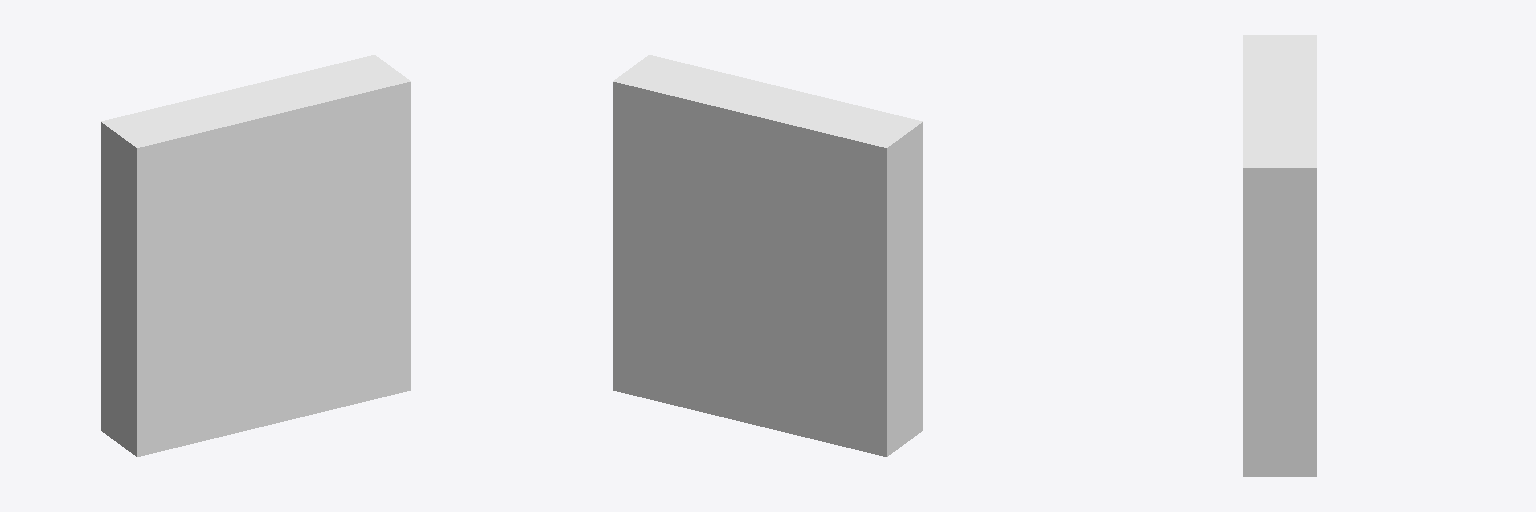
Rendered from mesh_security_power_panel.obj.
3 views of the same model, side by side, from view 1: azimuth 30°, elevation 25°; view 2: azimuth 150°, elevation 25°; view 3: azimuth 270°, elevation 25° (orthographic).
Visible parts, largest first — view 1: object 1; view 2: object 1; view 3: object 1.
Boxes of the visible parts, x1=… form: object 1: x1=101, y1=55, x2=410, y2=456; object 1: x1=613, y1=55, x2=922, y2=456; object 1: x1=1243, y1=35, x2=1316, y2=476.
Bounding box in the file's own units: 1.3 × 1.4 × 0.3.